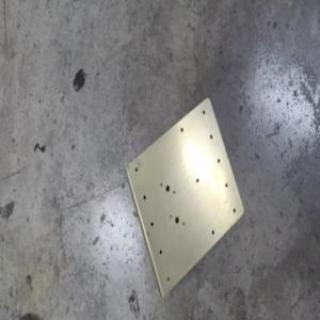MetalSheettrack_idkeyframe: (123, 95, 245, 300)
